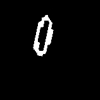chain: (33, 15, 52, 55)
